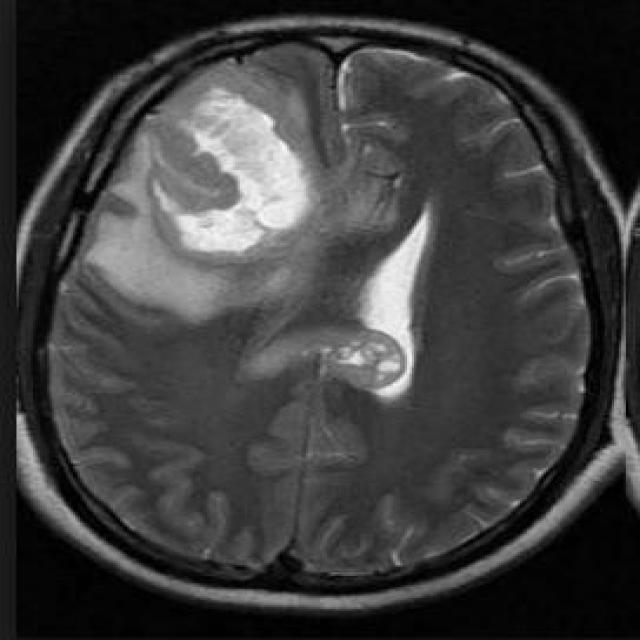Tumor-Cell: (129, 86, 332, 273)
